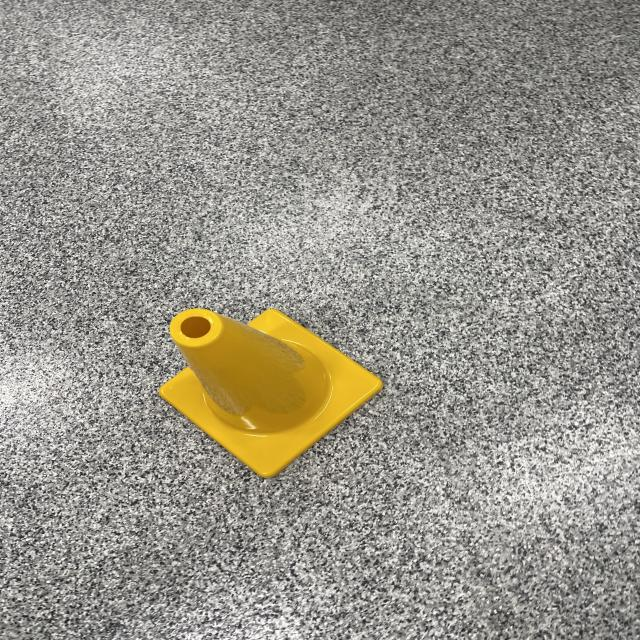frc_cone: (144, 291, 386, 481)
